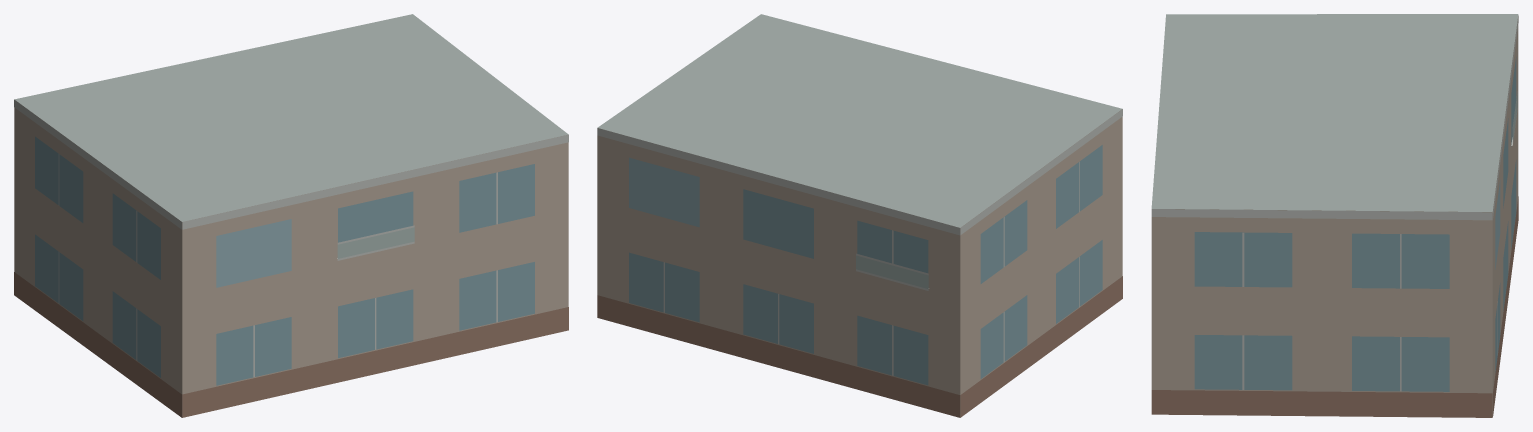
Rendered from survey-upis-32939472.glb.
3 views of the same model, side by side, from view 1: azimuth 30°, elevation 25°; view 2: azimuth 150°, elevation 25°; view 3: azimuth 270°, elevation 25° (orthographic). The views are drawn at different scales.
Visible parts, largest first — view 1: survey-upis-32939472.tmp; view 2: survey-upis-32939472.tmp; view 3: survey-upis-32939472.tmp.
Part boxes in pixels (left/top/right/bottom): survey-upis-32939472.tmp: left=14, top=14, right=568, bottom=417; survey-upis-32939472.tmp: left=597, top=14, right=1122, bottom=417; survey-upis-32939472.tmp: left=1151, top=14, right=1518, bottom=417.
Bounding box in the file's own units: 12.61 × 6.1 × 9.87.
